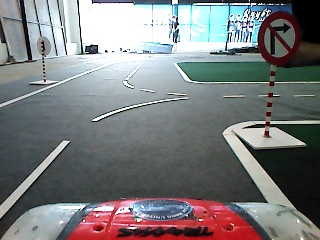ban: (255, 9, 302, 69)
